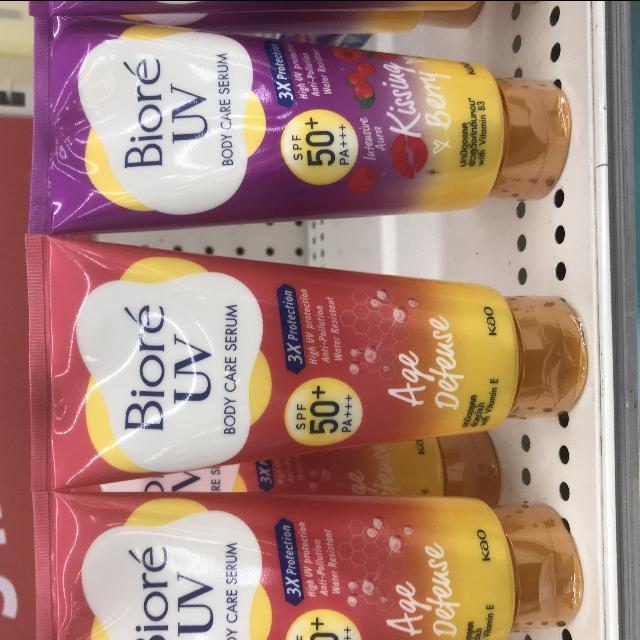Squeeze Tube: (10, 7, 593, 640), (30, 234, 583, 494), (31, 9, 576, 242), (34, 475, 578, 629)
